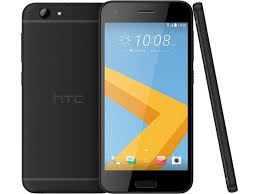htc: (98, 1, 193, 191), (20, 2, 96, 193)
